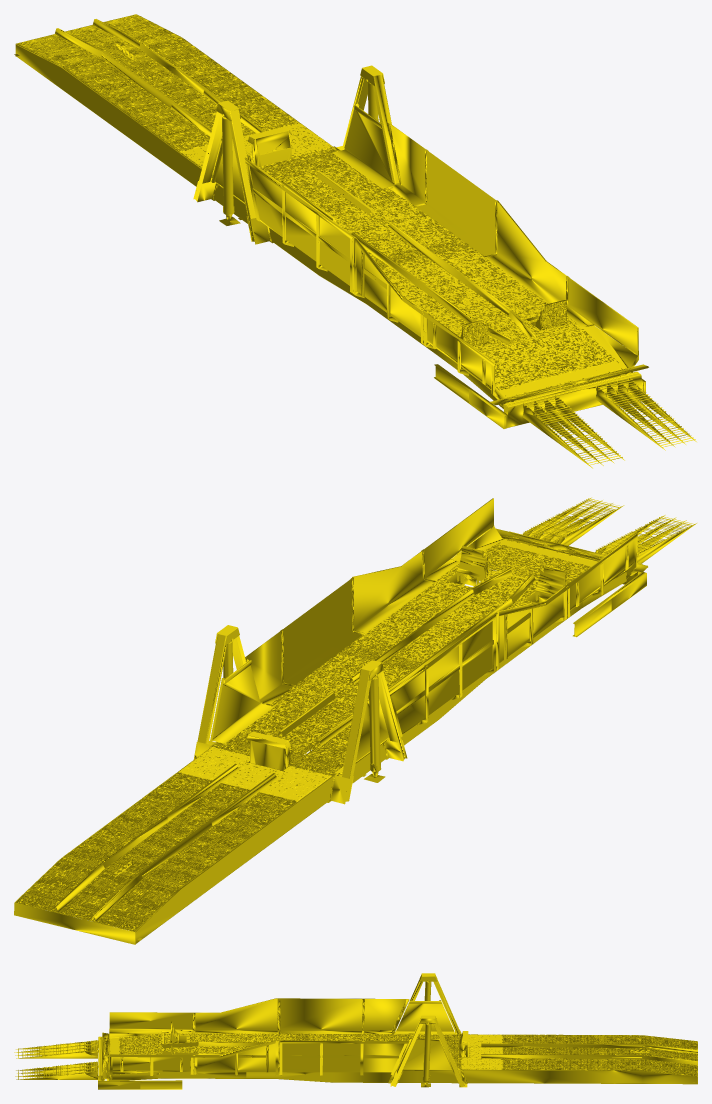
Rendered from tombador.glb.
3 views of the same model, one above another, from view 1: azimuth 30°, elevation 25°; view 2: azimuth 150°, elevation 25°; view 3: azimuth 270°, elevation 25° (orthographic). The views are drawn at different scales.
Visible parts, largest first — view 1: Mesh_0; view 2: Mesh_0; view 3: Mesh_0.
Boxes of the visible parts, box(x1,y1,x2,y2) form: Mesh_0: box(14, 14, 696, 468); Mesh_0: box(14, 497, 696, 944); Mesh_0: box(14, 973, 697, 1089).
Size of the model in its own units: 0.0391 by 0.034 by 0.2438.
